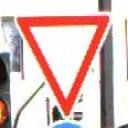preferencia: (12, 11, 117, 117)
